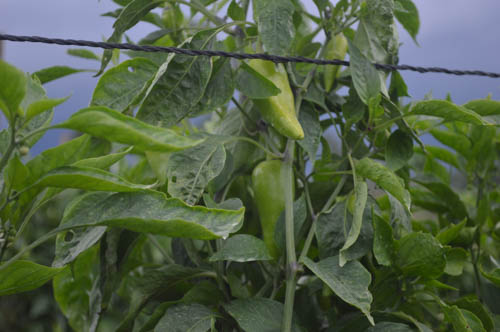ChiliPepper: (247, 55, 303, 144), (253, 157, 291, 265), (320, 32, 348, 95)
